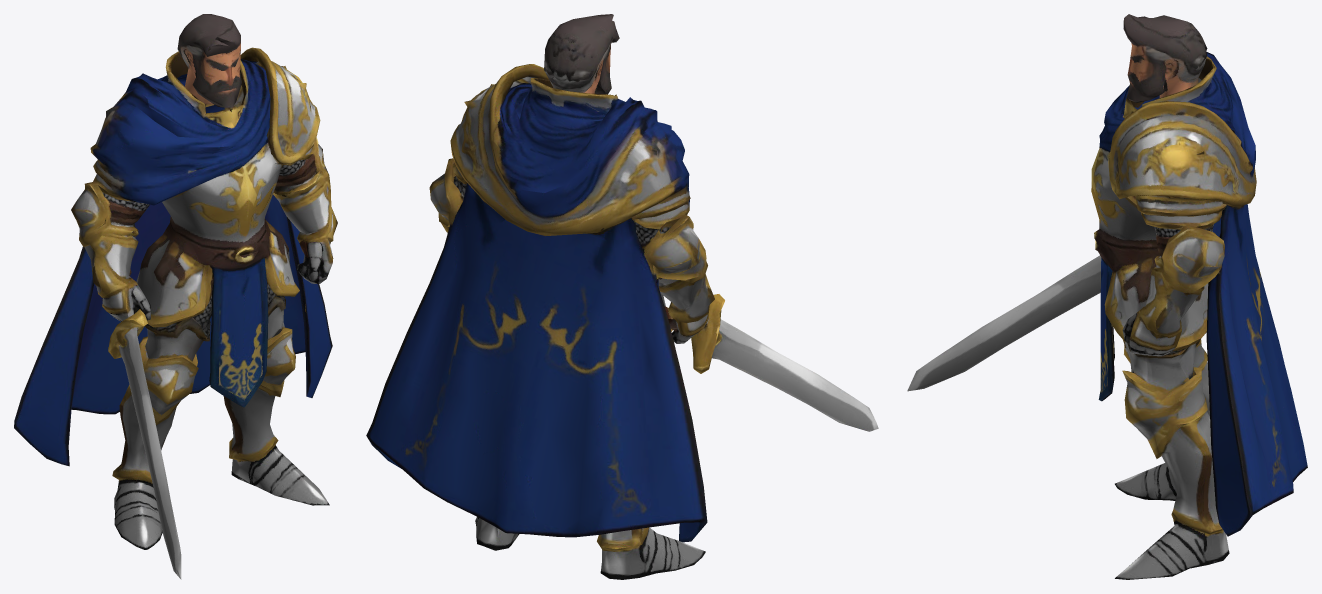
File: knight_captain_ready.glb
The picture shows the model from 3 angles, left to right: view 1: azimuth 30°, elevation 25°; view 2: azimuth 150°, elevation 25°; view 3: azimuth 270°, elevation 25°; orthographic projection. The views are drawn at different scales.
Parts seen in each view (by area): view 1: world; view 2: world; view 3: world.
Part boxes in pixels (bbox=[...]): world: bbox=[14, 14, 337, 579]; world: bbox=[366, 14, 878, 579]; world: bbox=[907, 14, 1307, 579].
Size of the model in its own units: 0.6806 by 1 by 0.7086.
1 material, 1 textured.
